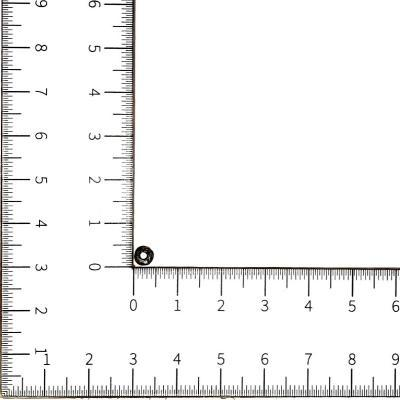archeology: (135, 246, 156, 268)
